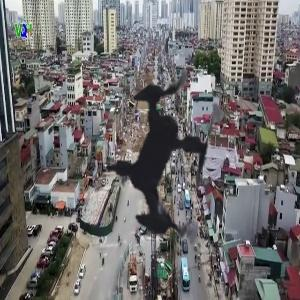drone: (31, 22, 293, 284)
